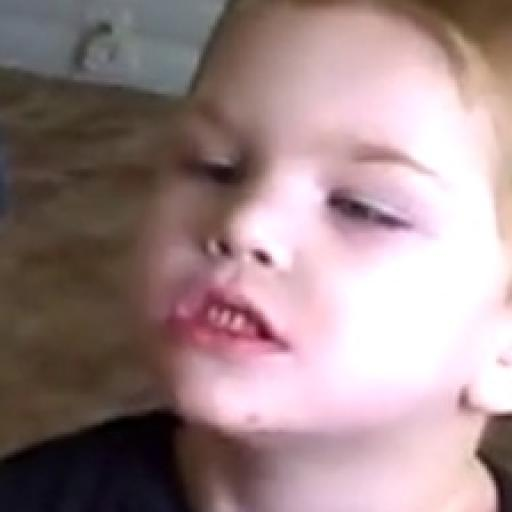Autism: (116, 20, 504, 480)
